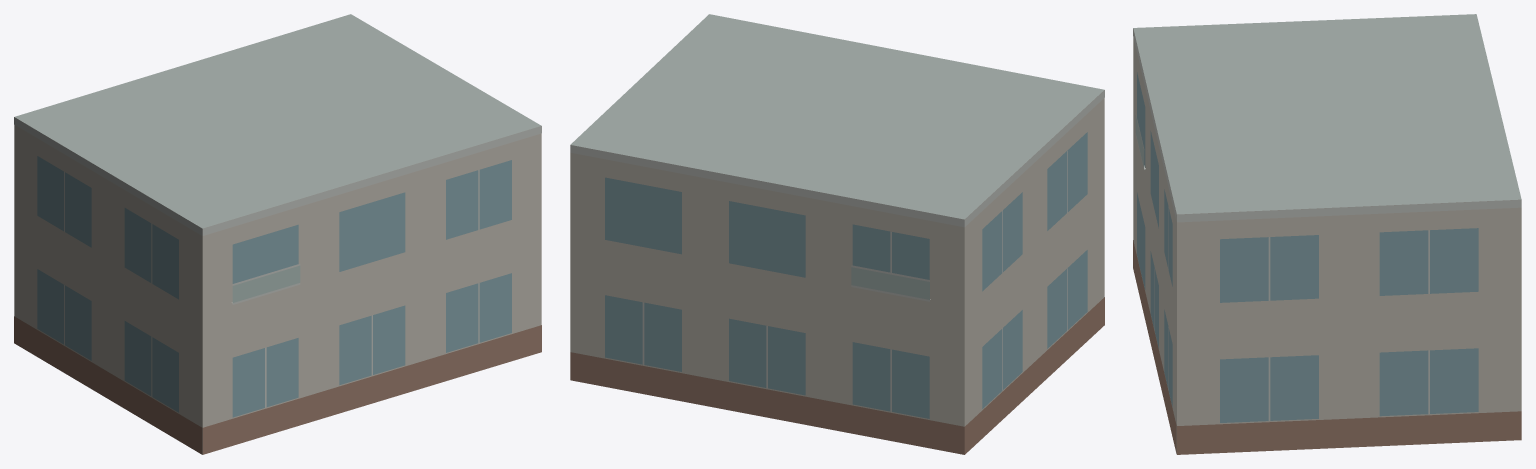
The model's file is survey-upis-32621801.glb.
The picture shows the model from 3 angles, left to right: view 1: azimuth 30°, elevation 25°; view 2: azimuth 150°, elevation 25°; view 3: azimuth 270°, elevation 25°; orthographic projection. The views are drawn at different scales.
Visible parts, largest first — view 1: survey-upis-32621801.tmp; view 2: survey-upis-32621801.tmp; view 3: survey-upis-32621801.tmp.
Boxes of the visible parts, <box> form: survey-upis-32621801.tmp: <box>14,14,541,454</box>; survey-upis-32621801.tmp: <box>570,14,1104,454</box>; survey-upis-32621801.tmp: <box>1133,14,1521,454</box>.
Bounding box in the file's own units: 13.06 × 7.3 × 10.7.
